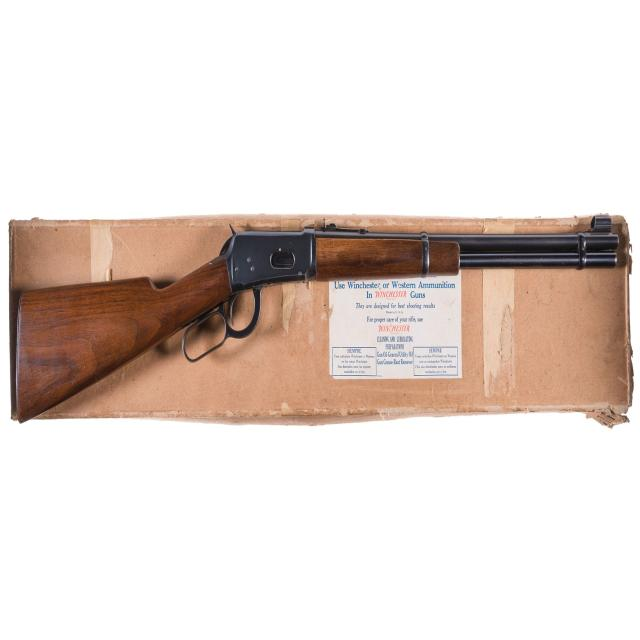ShotGun: (11, 215, 621, 424)
